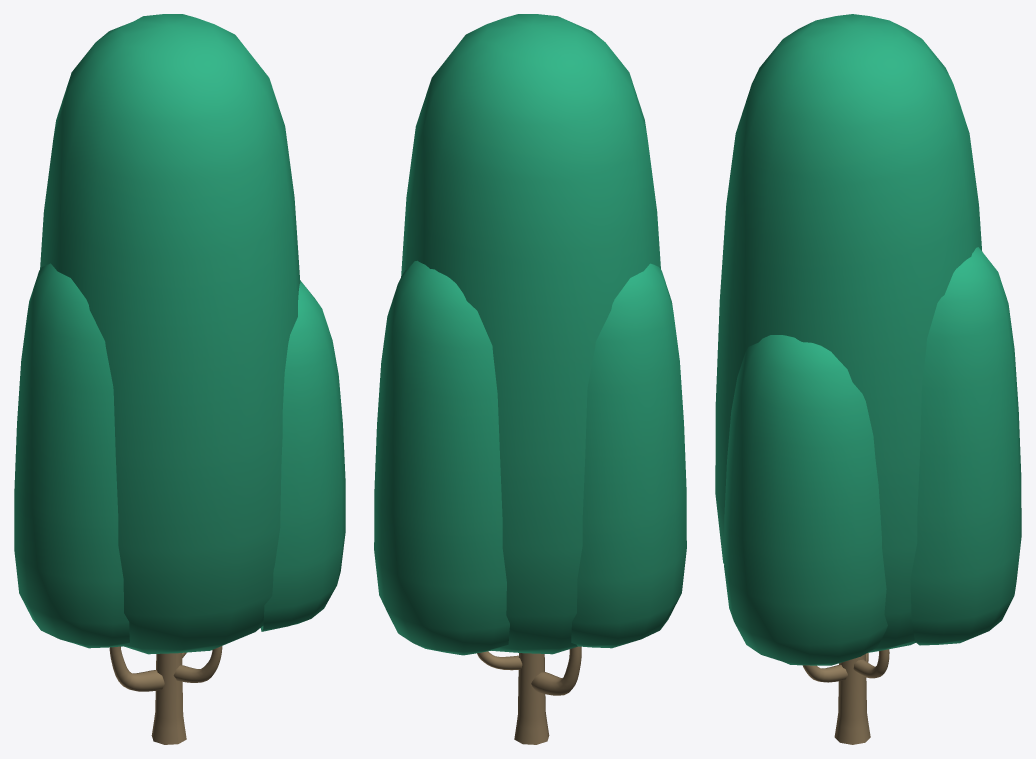
The model's file is SM_Tree_Capsule_L_2.fbx.
The picture shows the model from 3 angles, left to right: view 1: azimuth 30°, elevation 25°; view 2: azimuth 150°, elevation 25°; view 3: azimuth 270°, elevation 25°; orthographic projection.
Visible parts, largest first — view 1: SM_Tree_Capsule_L_2; view 2: SM_Tree_Capsule_L_2; view 3: SM_Tree_Capsule_L_2.
Part boxes in pixels (x1,y1,x2,y2): SM_Tree_Capsule_L_2: (14, 14, 345, 744); SM_Tree_Capsule_L_2: (374, 14, 686, 744); SM_Tree_Capsule_L_2: (715, 14, 1021, 744).
Bounding box in the file's own units: 177 × 418 × 163.
